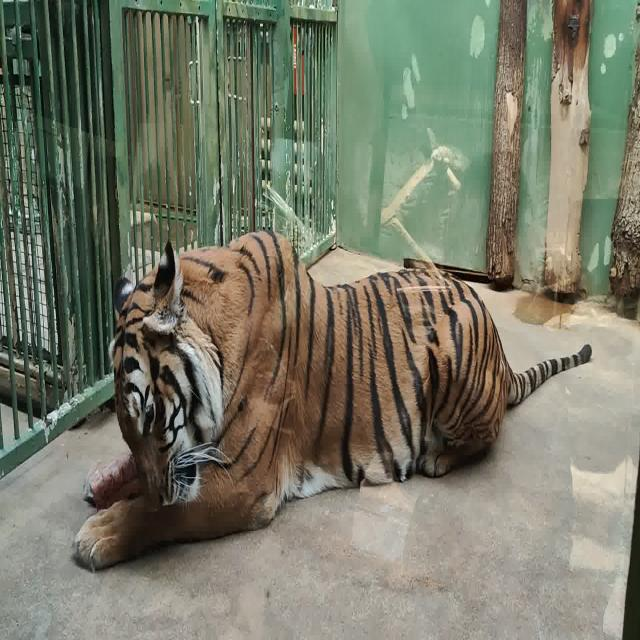tiger: (73, 229, 592, 573)
